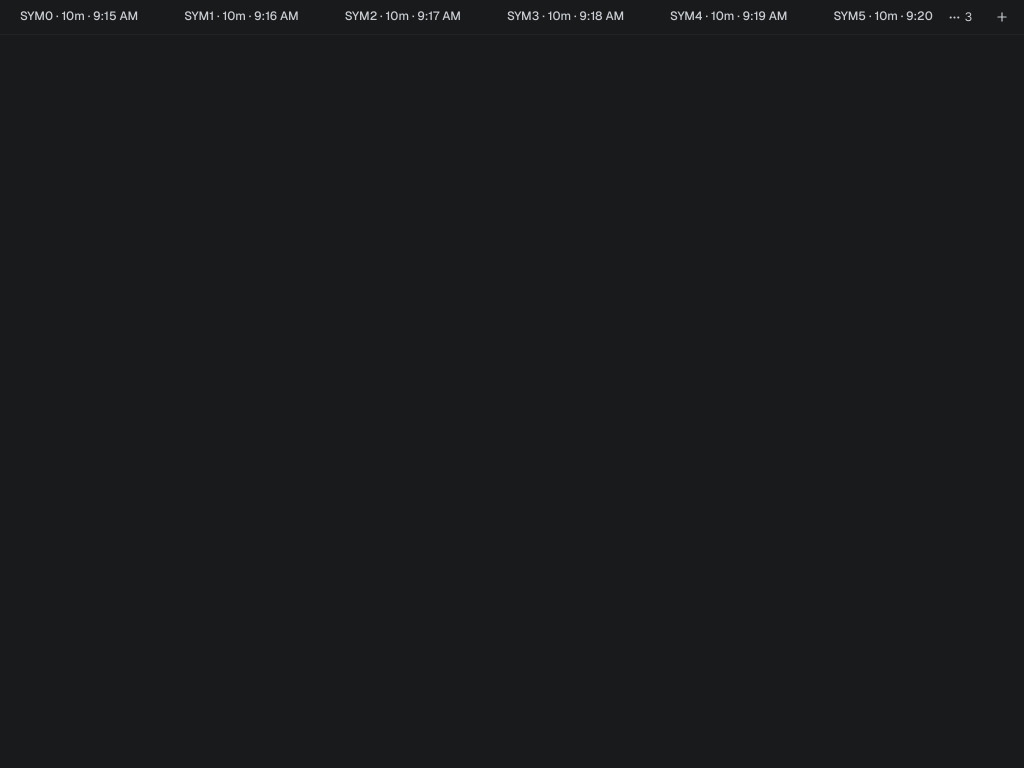
Test: overflow › moves the excess into a menu past the threshold
Expected: the tab "SYM0 · 10m · 9:15 AM" is shown, top-left (20, 0), bottom-right (138, 32)
Click the button named "3 more sessions" at [960, 17], box top-left (940, 3), bottom-right (980, 31)
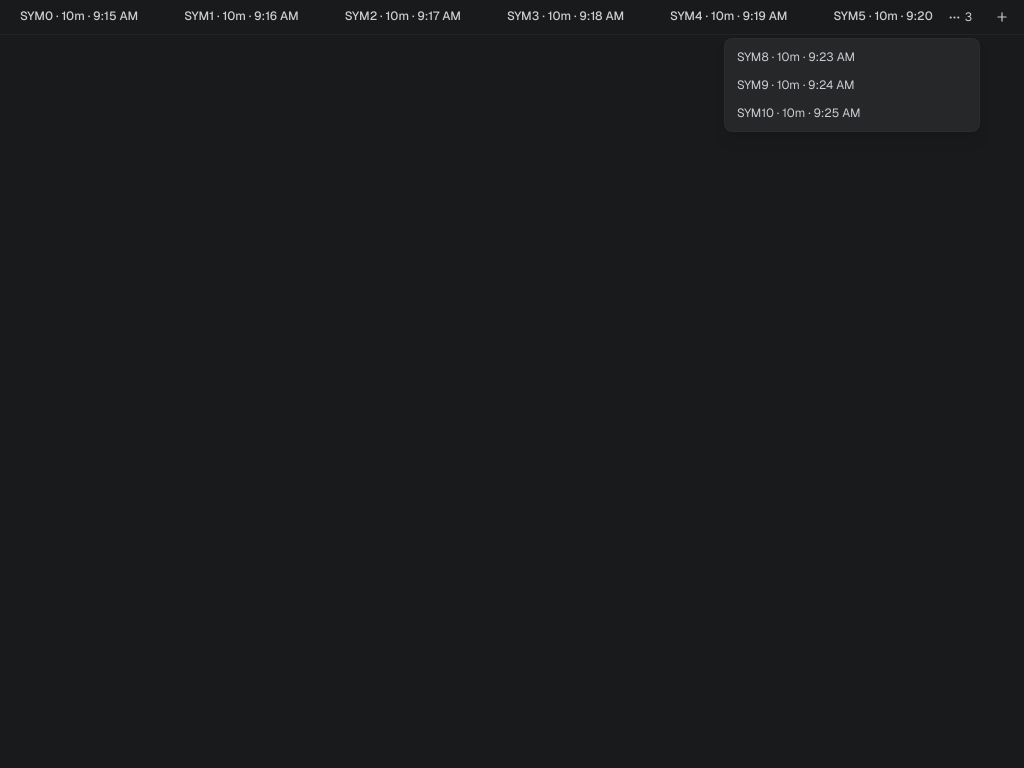
Expected: the number of menu items is 3, top-left (725, 43), bottom-right (979, 71); top-left (725, 71), bottom-right (979, 99); top-left (725, 99), bottom-right (979, 127)
